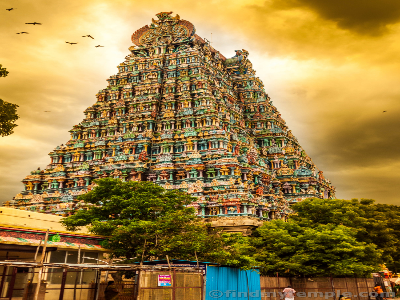gopura: (43, 24, 334, 225)
